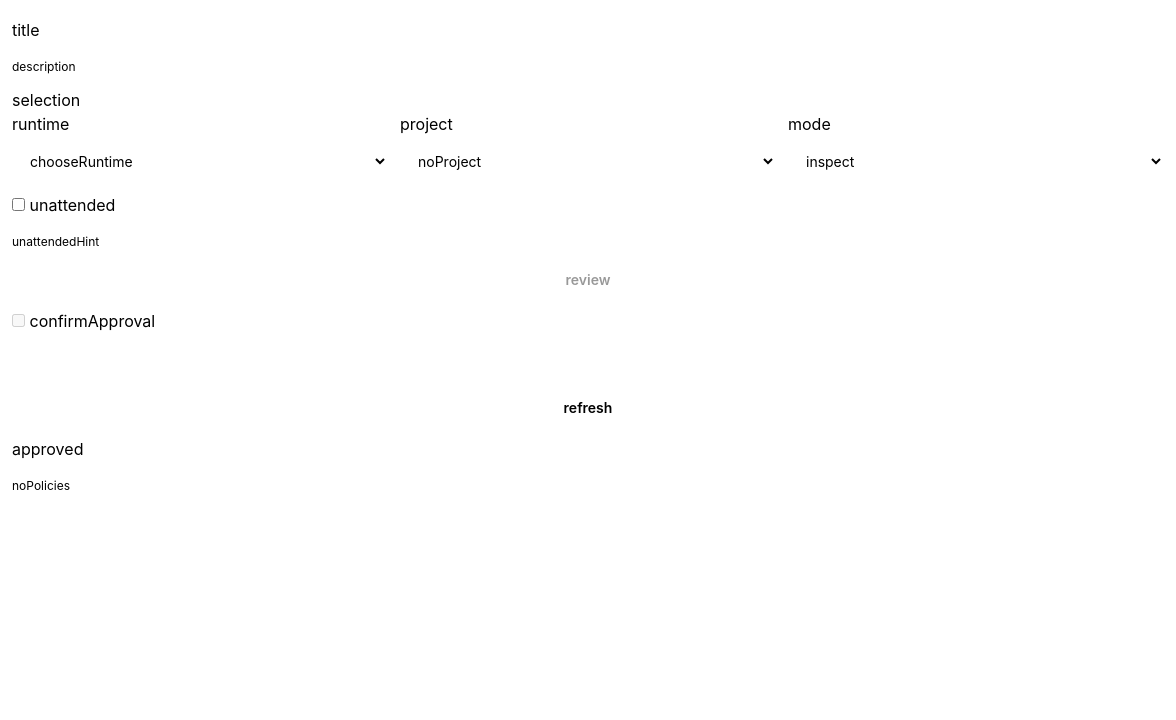
Test: expires review and clears confirmed capabilities when selection changes; writing requires a project
This screenshot has width=1176, height=720.
Select "Original runtime" in the dropdown labelled "runtime" at (200, 162), box 12,142 -> 388,181
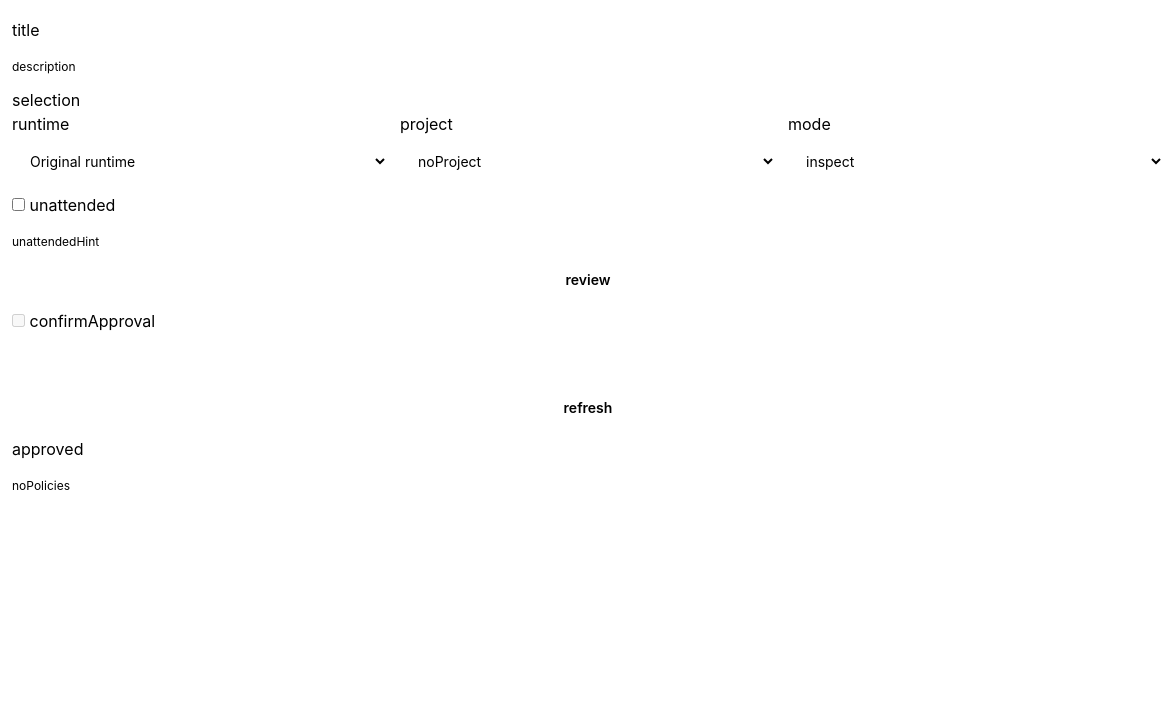
Click the button "review" at (588, 280), box 12,263 -> 1164,297
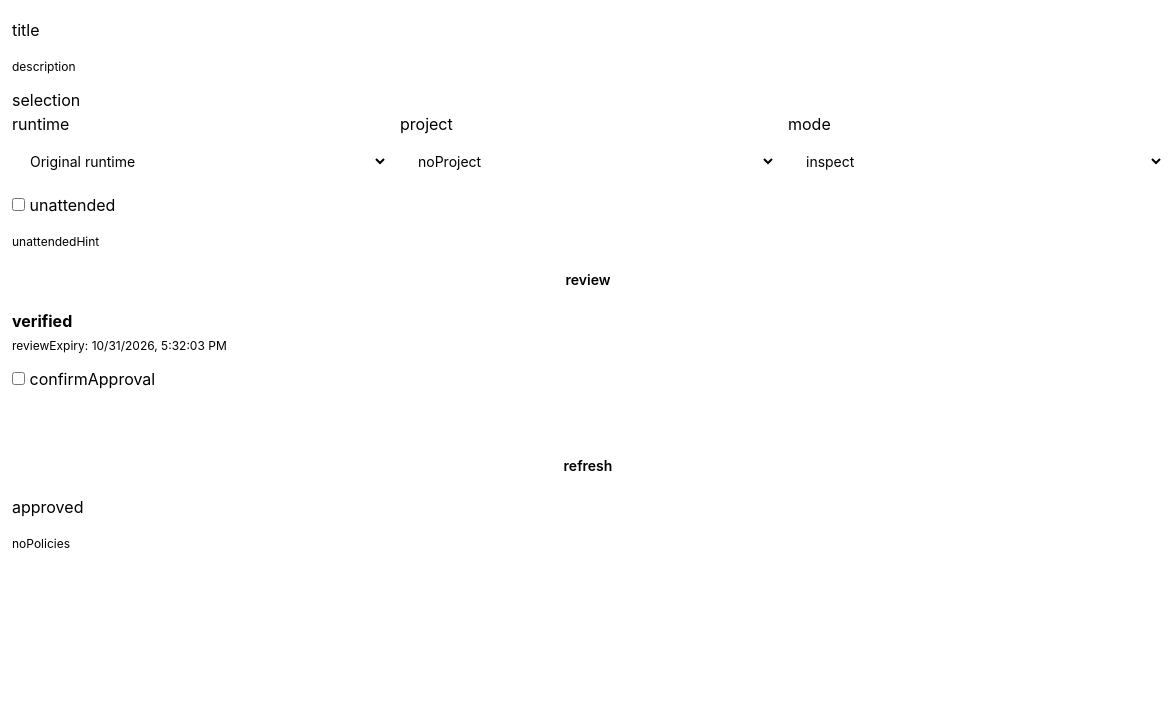
Check: the text "verified" is shown, box 12,311 -> 72,331
Click the checkbox labelled "confirmApproval" at (18, 378), box 12,372 -> 25,385
Wait 61000 ms
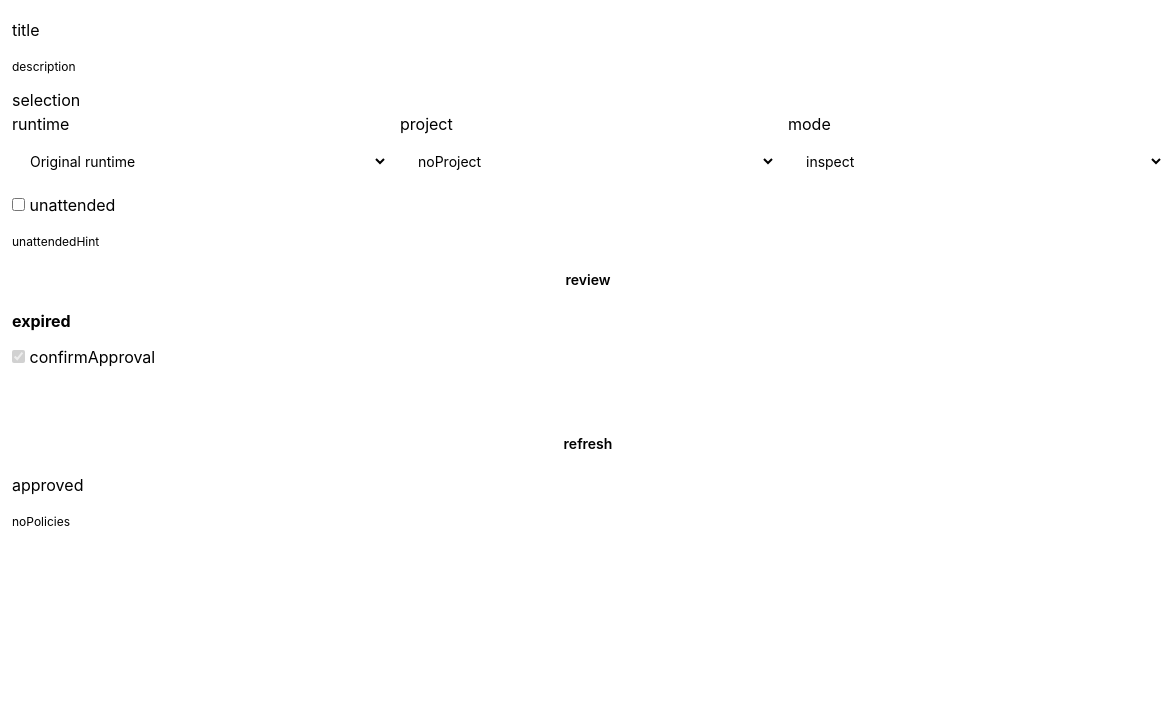
Check: the text "expired" is shown, box 12,311 -> 71,331
Select "Original project" in the dropdown labelled "project" at (588, 162), box 400,142 -> 776,181
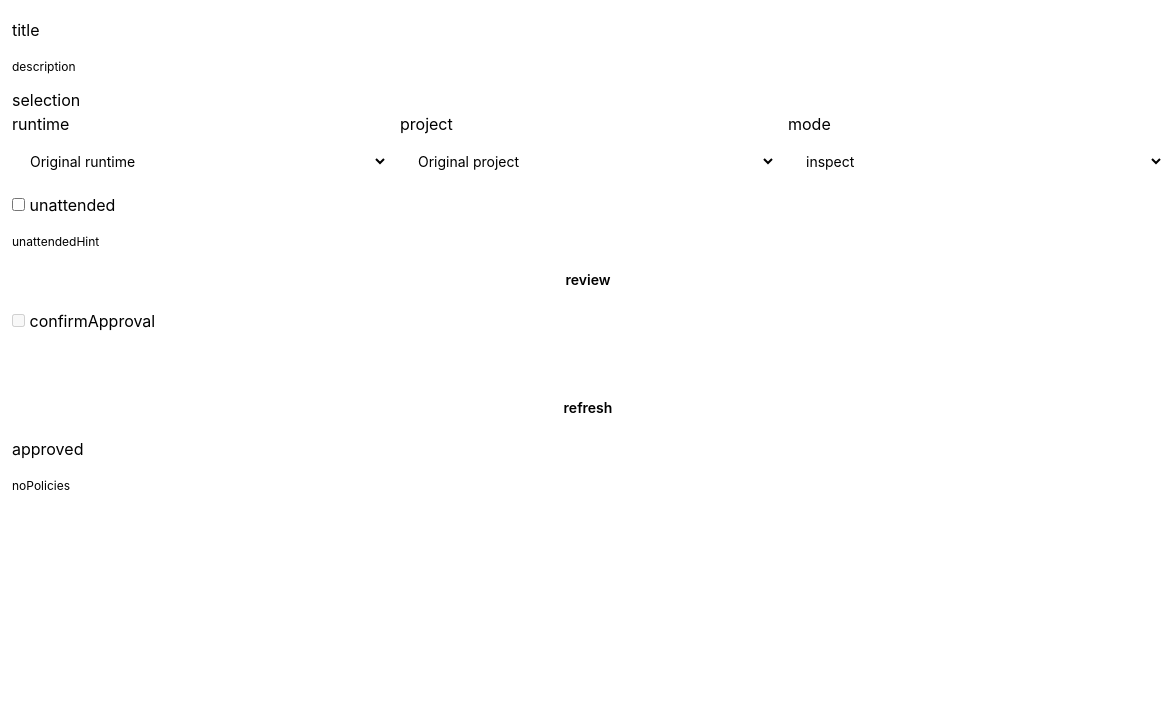
Check: the text "verified" is not shown
Check: the checkbox labelled "confirmApproval" is not checked, box 12,314 -> 25,327
Select "project_write" in the dropdown labelled "mode" at (976, 162), box 788,142 -> 1164,181
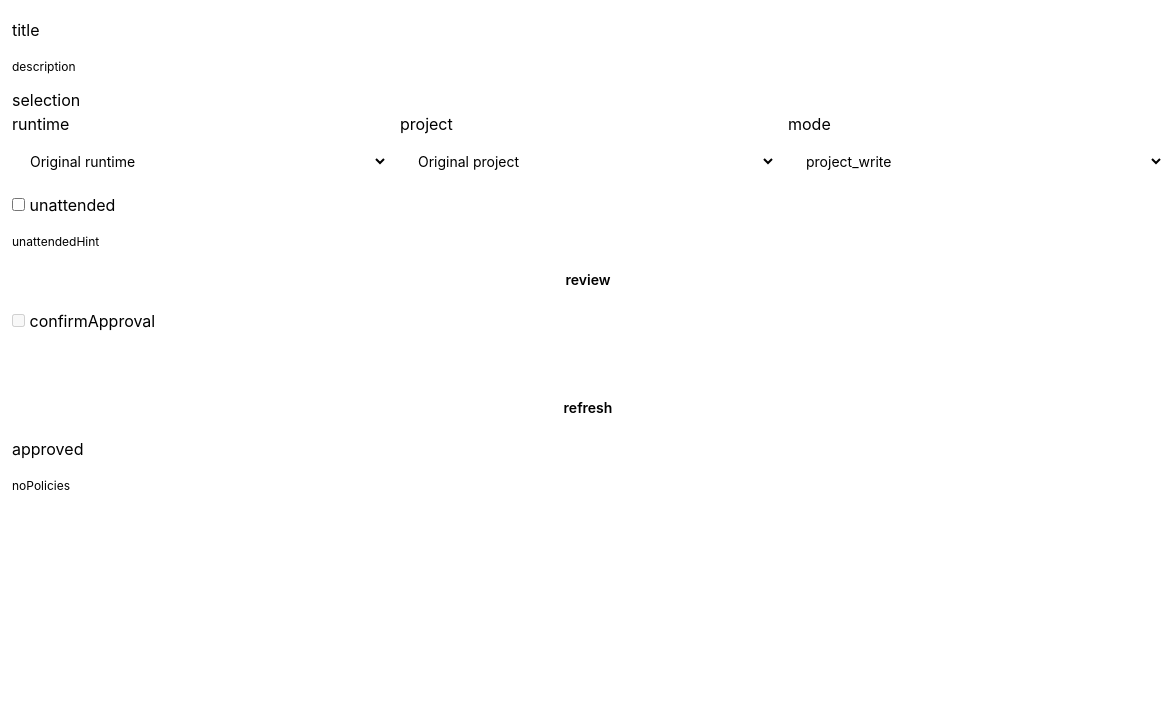
Select "noProject" in the dropdown labelled "project" at (588, 162), box 400,142 -> 776,181
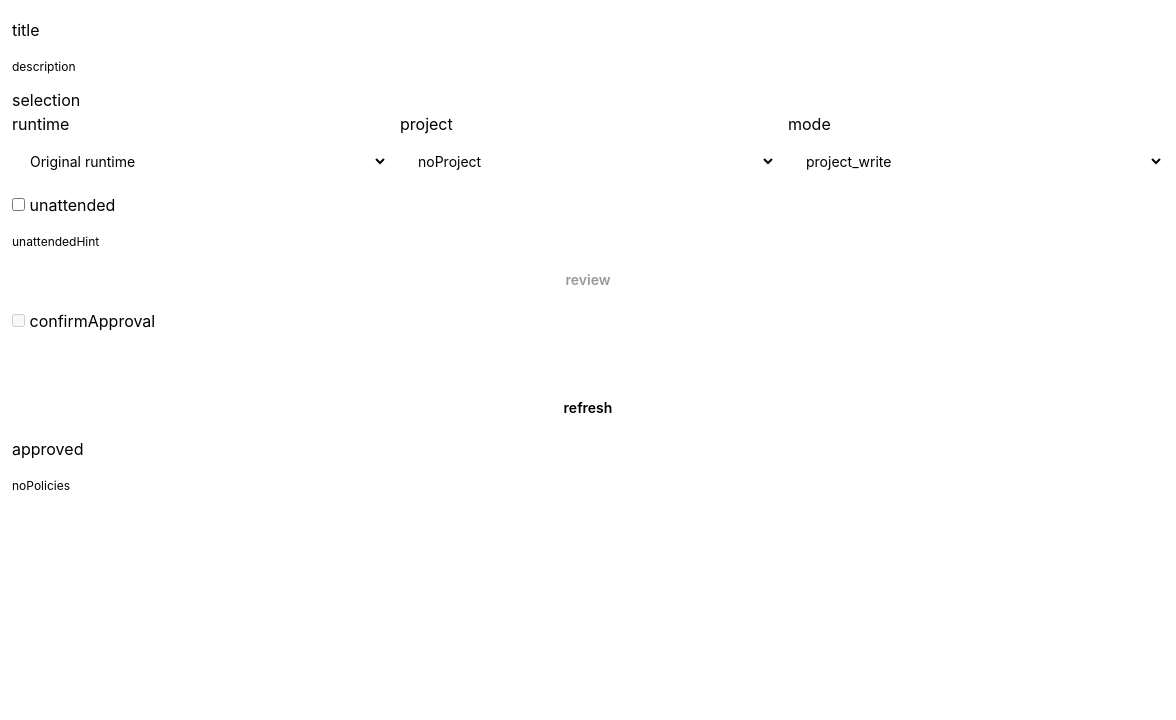
Check: the button "review" is disabled, box 12,263 -> 1164,297
